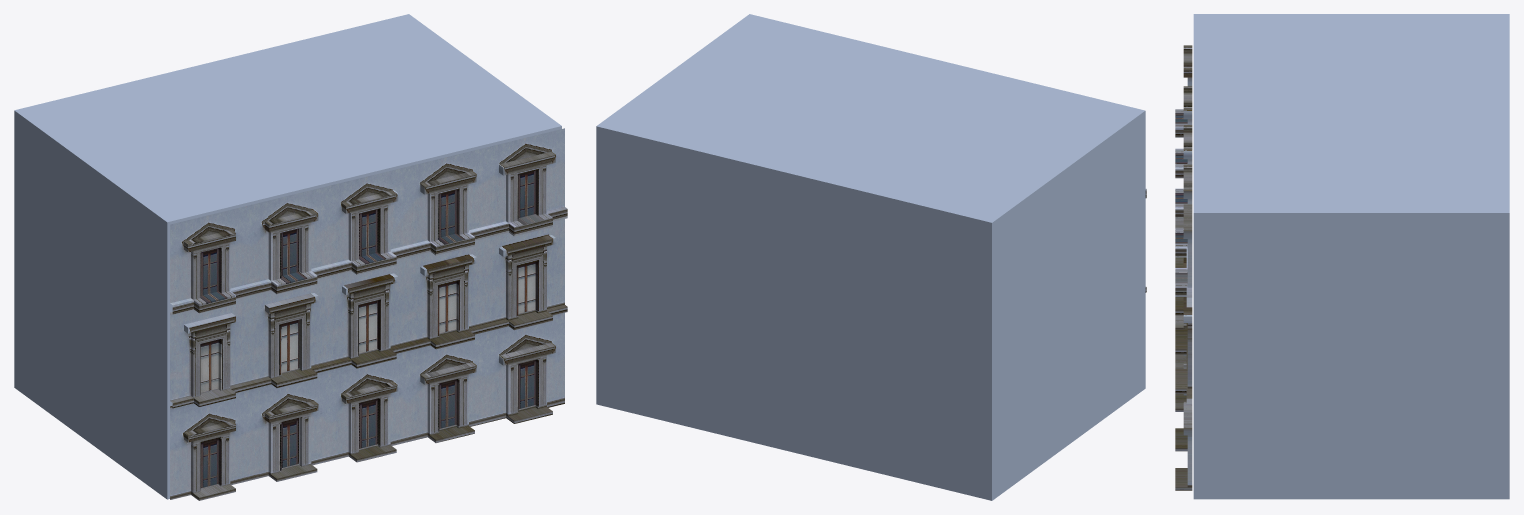
The model's file is binaaaa1.glb.
3 views of the same model, side by side, from view 1: azimuth 30°, elevation 25°; view 2: azimuth 150°, elevation 25°; view 3: azimuth 270°, elevation 25° (orthographic). The views are drawn at different scales.
Parts seen in each view (by area): view 1: 41_old building texture-seamless, Cube; view 2: Cube; view 3: Cube, 41_old building texture-seamless.
Boxes of the visible parts, x1,y1,x2,y2 form: 41_old building texture-seamless: (170, 128, 567, 500); Cube: (14, 14, 561, 499); Cube: (596, 14, 1145, 500); Cube: (1193, 14, 1509, 499); 41_old building texture-seamless: (1175, 45, 1192, 490).
Bounding box in the file's own units: 12.92 × 8.64 × 9.12.
2 materials, 1 textured.
